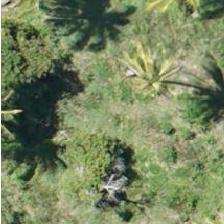Kelapa_Sawit: (124, 44, 214, 134)
